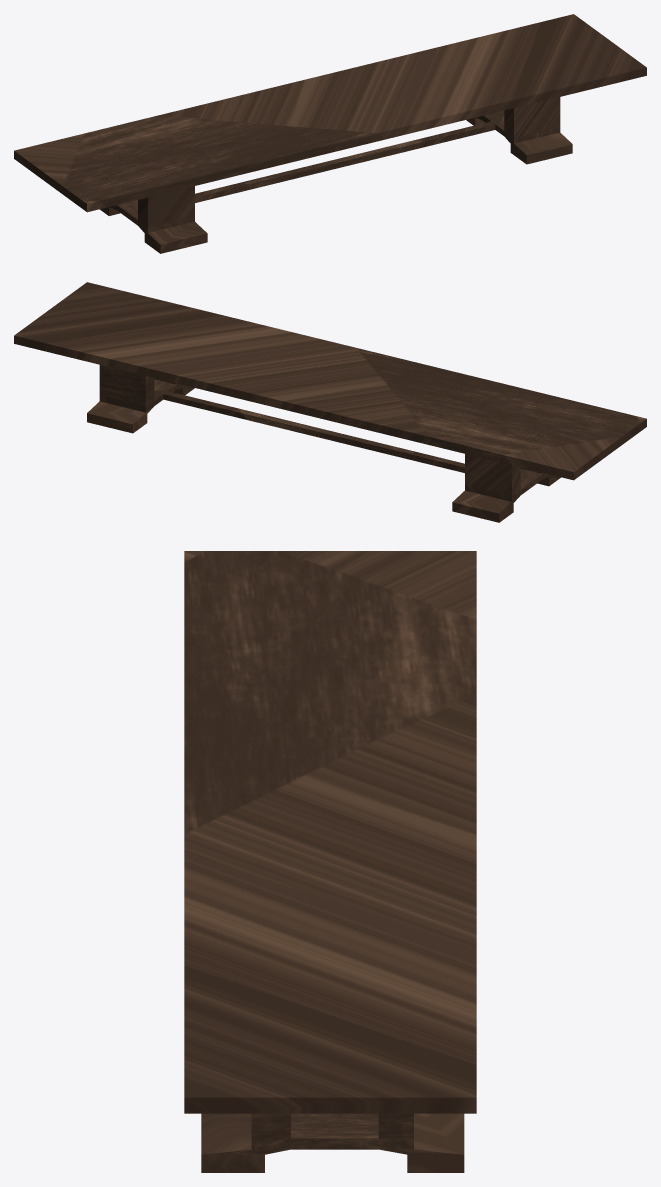
The model's file is table_diningroom.fbx.
The picture shows the model from 3 angles, top to bottom: view 1: azimuth 30°, elevation 25°; view 2: azimuth 150°, elevation 25°; view 3: azimuth 270°, elevation 25°; orthographic projection. The views are drawn at different scales.
Parts seen in each view (by area): view 1: long_table; view 2: long_table; view 3: long_table.
Boxes of the visible parts, x1=… form: long_table: x1=14, y1=14, x2=646, y2=253; long_table: x1=14, y1=282, x2=646, y2=522; long_table: x1=184, y1=551, x2=476, y2=1172.
Size of the model in its own units: 900 by 110 by 204.
